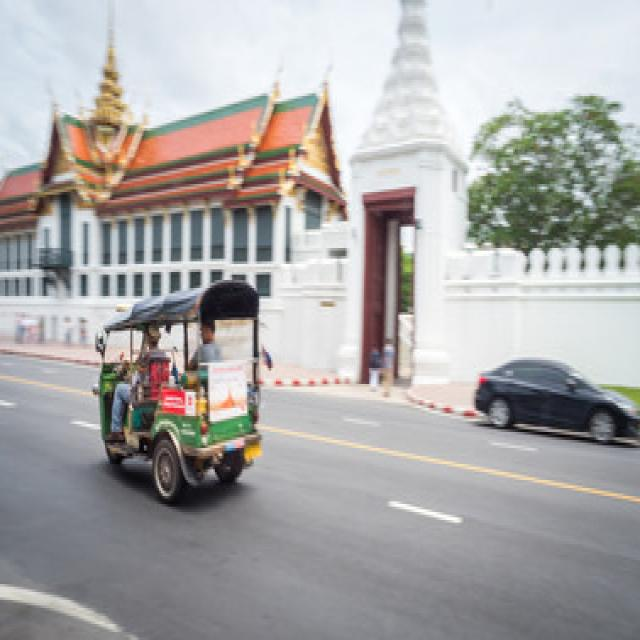car: (474, 357, 638, 440)
person: (190, 320, 220, 368)
three wheeler: (95, 280, 259, 501)
